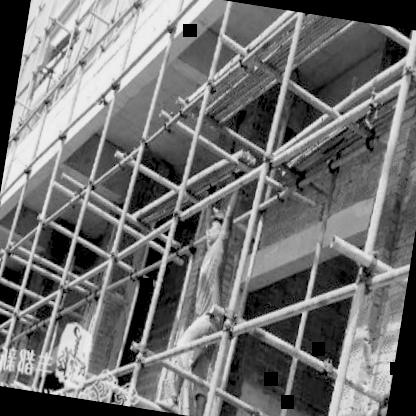helmet: (202, 202, 233, 251)
